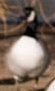goose: (5, 7, 51, 91)
